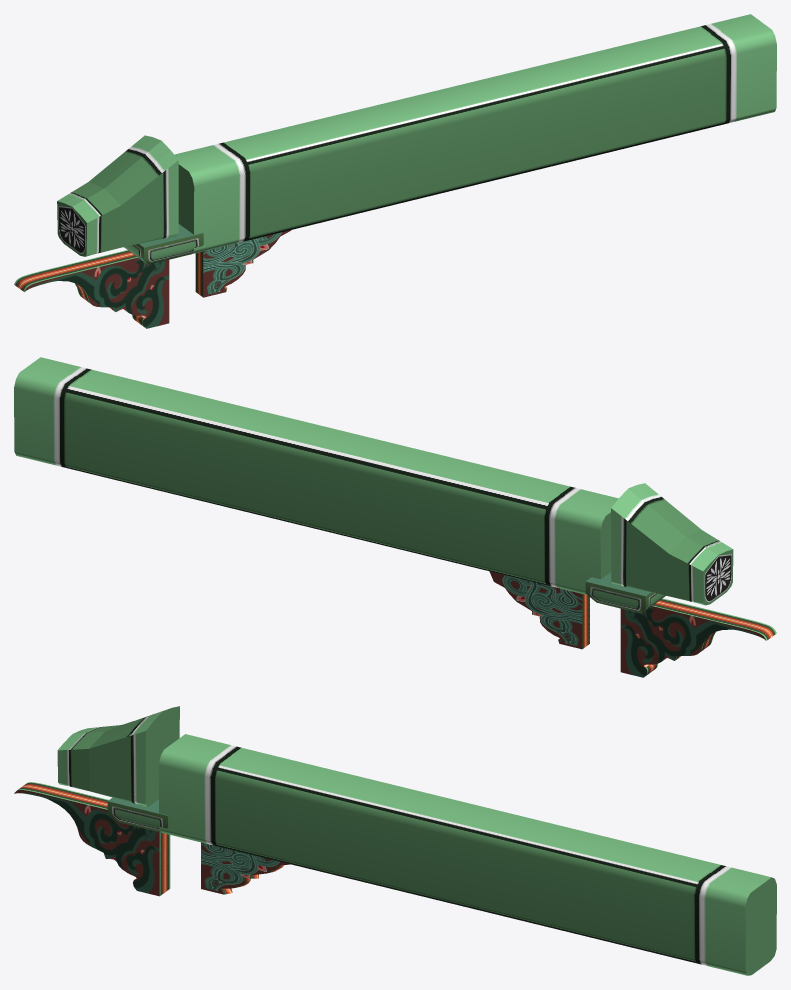
File: SM_R_Beam_18.fbx
3 views of the same model, one above another, from view 1: azimuth 30°, elevation 25°; view 2: azimuth 150°, elevation 25°; view 3: azimuth 330°, elevation 25° (orthographic).
Visible parts, largest first — view 1: SM_R_Beam_18; view 2: SM_R_Beam_18; view 3: SM_R_Beam_18.
Boxes of the visible parts, <box> form: SM_R_Beam_18: <box>14,14,776,328</box>; SM_R_Beam_18: <box>14,357,776,677</box>; SM_R_Beam_18: <box>14,706,776,975</box>.
Size of the model in its own units: 376 by 32.84 by 87.18.
3 materials, 3 textured.
